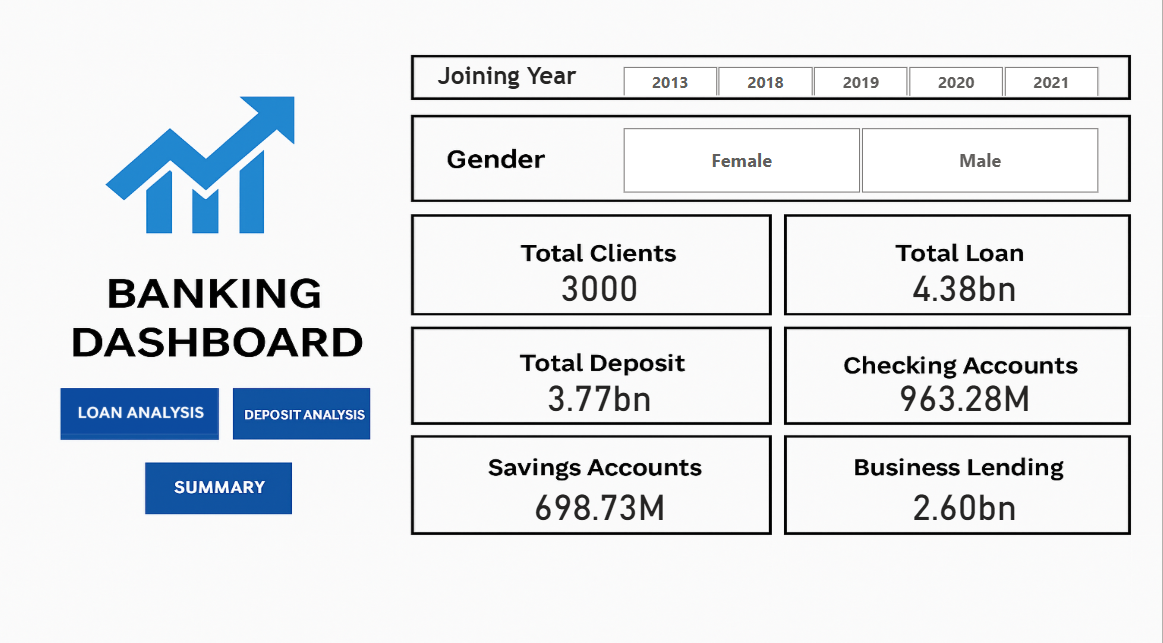

Layout of this report page (visuals, bound fields, positions):
{"tool":"powerbi","page":{"name":"Home","canvas":[1280,720],"ordinal":0},"visuals":[{"type":"card","fields":{"Values":["CountNonNull(banking_case customer.Name)"]},"box":[580,292.9,164.3,57.1],"z":0},{"type":"slicer","fields":{"Values":["banking_case customer.GenderId"]},"box":[662.9,141.4,571.4,84.3],"z":1000},{"type":"card","fields":{"Values":["banking_case customer.Total Loan"]},"box":[981.4,292.9,164.3,57.1],"z":2000},{"type":"card","fields":{"Values":["banking_case customer.Total Deposits"]},"box":[580,412.9,164.3,57.1],"z":3000},{"type":"card","fields":{"Values":["Sum(banking_case customer.Checking Accounts)"]},"box":[981.4,412.9,164.3,57.1],"z":4000},{"type":"card","fields":{"Values":["Sum(banking_case customer.Saving Accounts)"]},"box":[580,532.9,164.3,57.1],"z":5000},{"type":"card","fields":{"Values":["Sum(banking_case customer.Business Lending)"]},"box":[981.4,532.9,164.3,57.1],"z":6000},{"type":"slicer","fields":{"Values":["banking_case customer.Year of Joining"]},"box":[662.5,73.8,571.2,38.8],"z":7000},{"type":"textbox","box":[460,70,202.9,47.1],"z":8000},{"type":"image","box":[66.8,373.5,180.6,171.3],"z":9000},{"type":"actionButton","box":[70.6,433.5,174.5,51],"z":10000},{"type":"actionButton","box":[260.5,434,149.5,57],"z":11000},{"type":"actionButton","box":[164,517,162.5,55],"z":12000}]}

Visuals, with their boxes in screenshot pixels (x1, y1, x2, y2), scaled from the page's 1280x720 canvas onto the 1163x643 screenshot:
card - CountNonNull(banking_case customer.Name): <region>527, 262, 676, 313</region>
slicer - banking_case customer.GenderId: <region>602, 126, 1121, 202</region>
card - banking_case customer.Total Loan: <region>892, 262, 1041, 313</region>
card - banking_case customer.Total Deposits: <region>527, 369, 676, 420</region>
card - Sum(banking_case customer.Checking Accounts): <region>892, 369, 1041, 420</region>
card - Sum(banking_case customer.Saving Accounts): <region>527, 476, 676, 527</region>
card - Sum(banking_case customer.Business Lending): <region>892, 476, 1041, 527</region>
slicer - banking_case customer.Year of Joining: <region>602, 66, 1121, 101</region>
textbox: <region>418, 63, 602, 105</region>
image: <region>61, 334, 225, 487</region>
actionButton: <region>64, 387, 223, 433</region>
actionButton: <region>237, 388, 373, 438</region>
actionButton: <region>149, 462, 297, 511</region>
